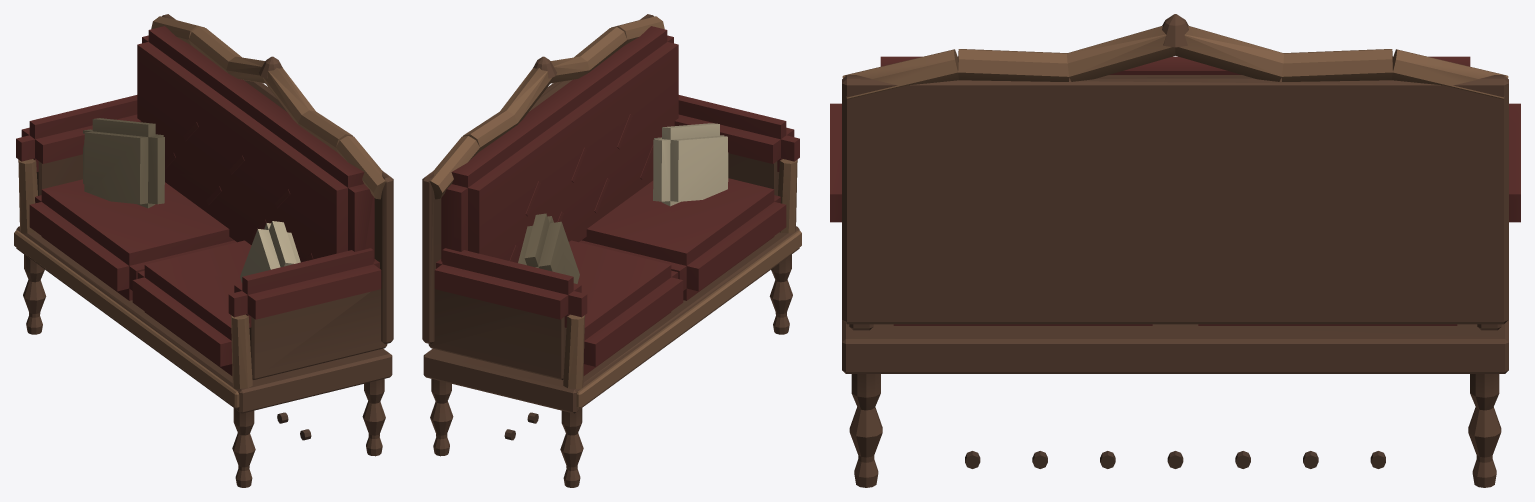
File: hargrove_victorian_settee.glb
3 renders of one model, left to right at view 1: azimuth 30°, elevation 25°; view 2: azimuth 150°, elevation 25°; view 3: azimuth 270°, elevation 25°, orthographic. The views are drawn at different scales.
Visible parts, largest first — view 1: hargrove_victorian_settee; view 2: hargrove_victorian_settee; view 3: hargrove_victorian_settee.
Boxes of the visible parts, x1,y1,x2,y2 form: hargrove_victorian_settee: (14, 14, 393, 487); hargrove_victorian_settee: (422, 14, 801, 487); hargrove_victorian_settee: (830, 14, 1520, 487).
Size of the model in its own units: 0.5645 by 1.09 by 1.43.
